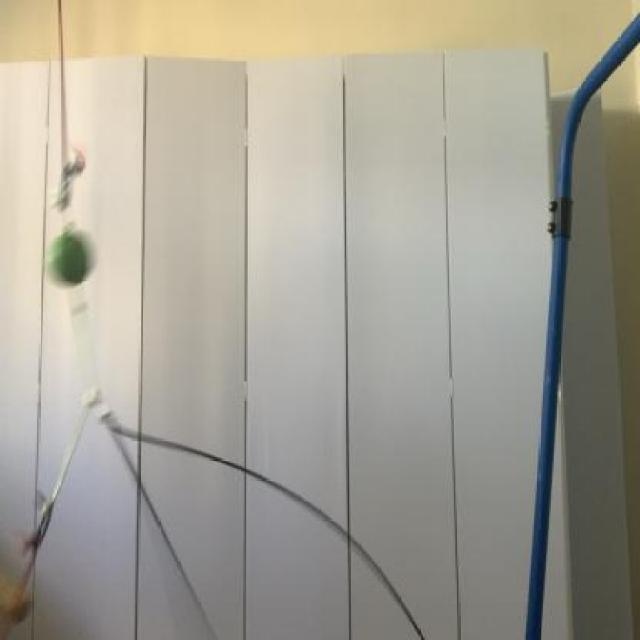baseball: (49, 222, 94, 288)
